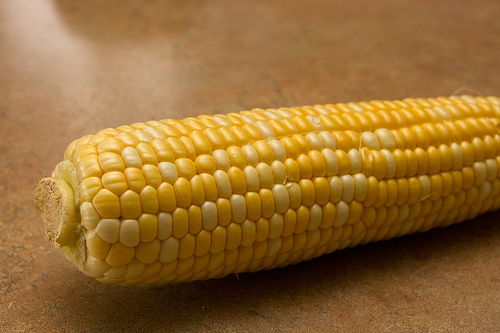corn: (37, 93, 499, 289)
